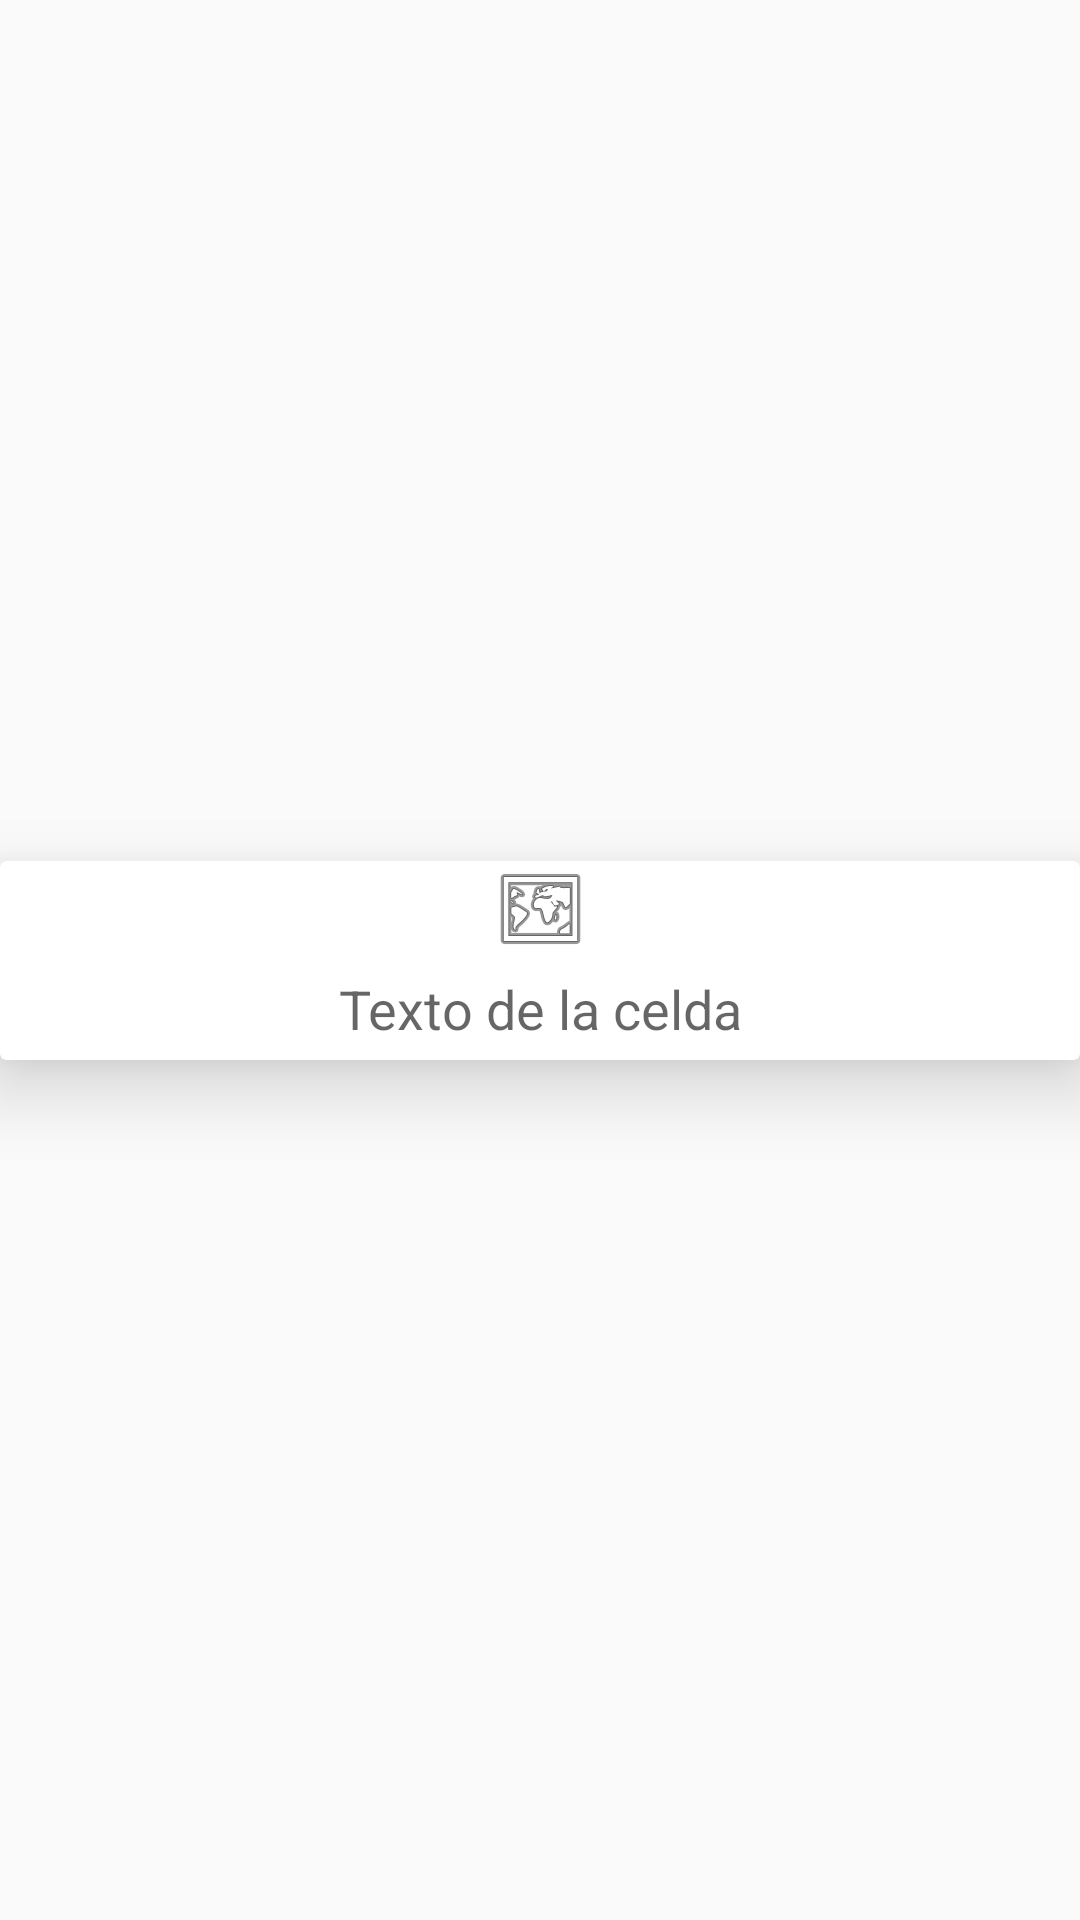

Named icons in this screenshot (1080 x 1920) and their bounding boxes, (x1, y1, x2, y2):
Poster: (500, 874, 581, 944)
